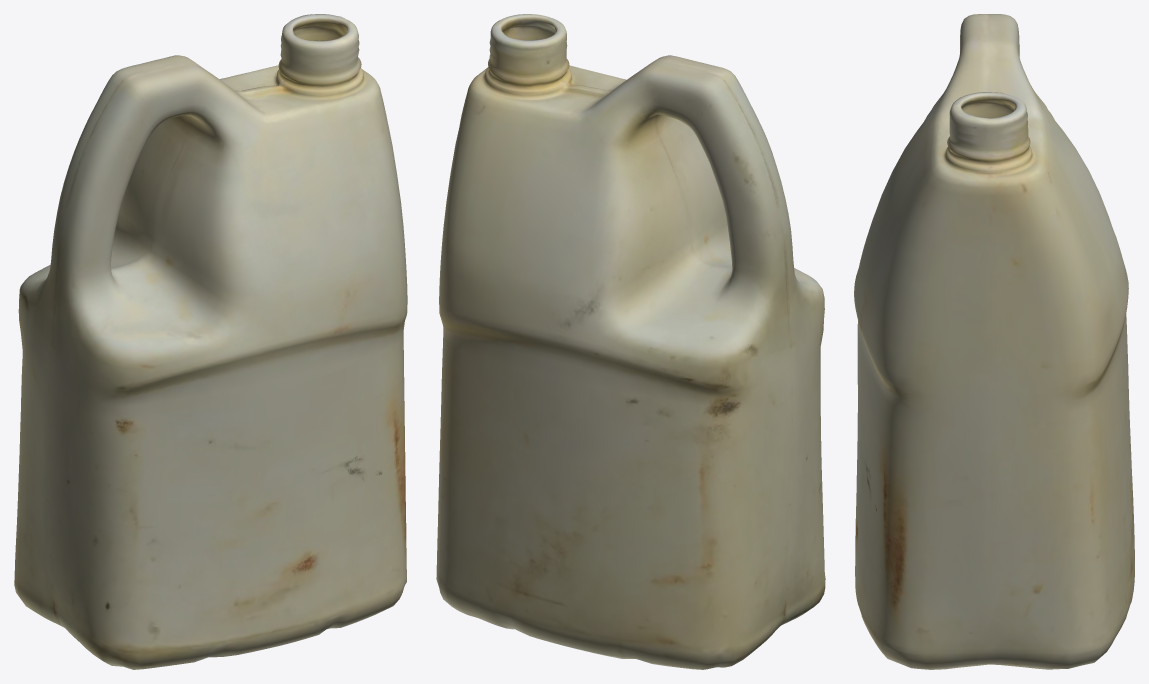
Rendered from plastic_bottle_gallon.glb.
3 renders of one model, left to right at view 1: azimuth 30°, elevation 25°; view 2: azimuth 150°, elevation 25°; view 3: azimuth 270°, elevation 25°, orthographic.
Visible parts, largest first — view 1: plastic_bottle_gallon; view 2: plastic_bottle_gallon; view 3: plastic_bottle_gallon.
Boxes of the visible parts, bbox=[...] form: plastic_bottle_gallon: bbox=[14, 14, 407, 669]; plastic_bottle_gallon: bbox=[436, 14, 825, 669]; plastic_bottle_gallon: bbox=[854, 14, 1134, 669].
Bounding box in the file's own units: 0.1663 × 0.2745 × 0.1263.
Materials: 1 (1 with a texture image).
